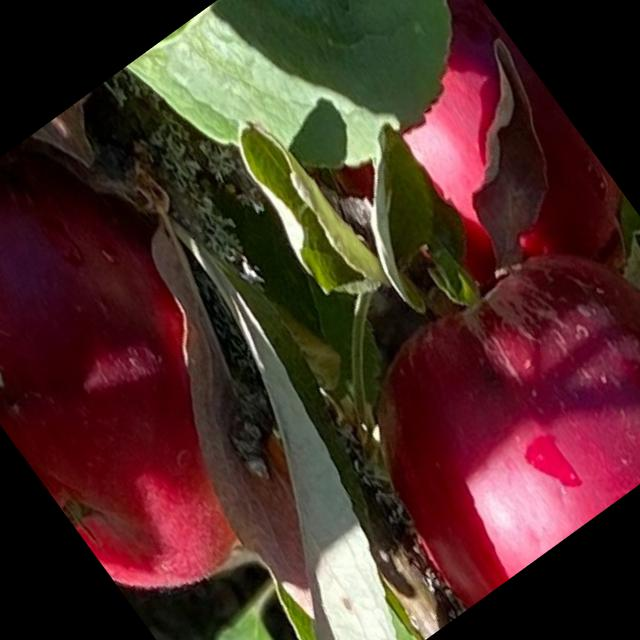Apples: (0, 105, 345, 624), (248, 0, 639, 356), (317, 199, 639, 608)
